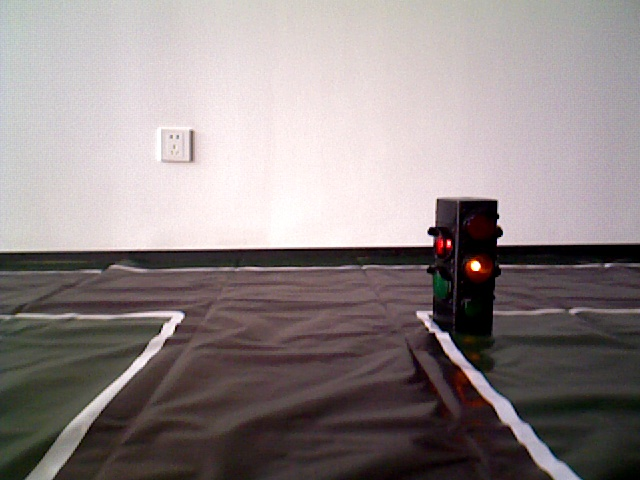yellow: (433, 198, 496, 337)
